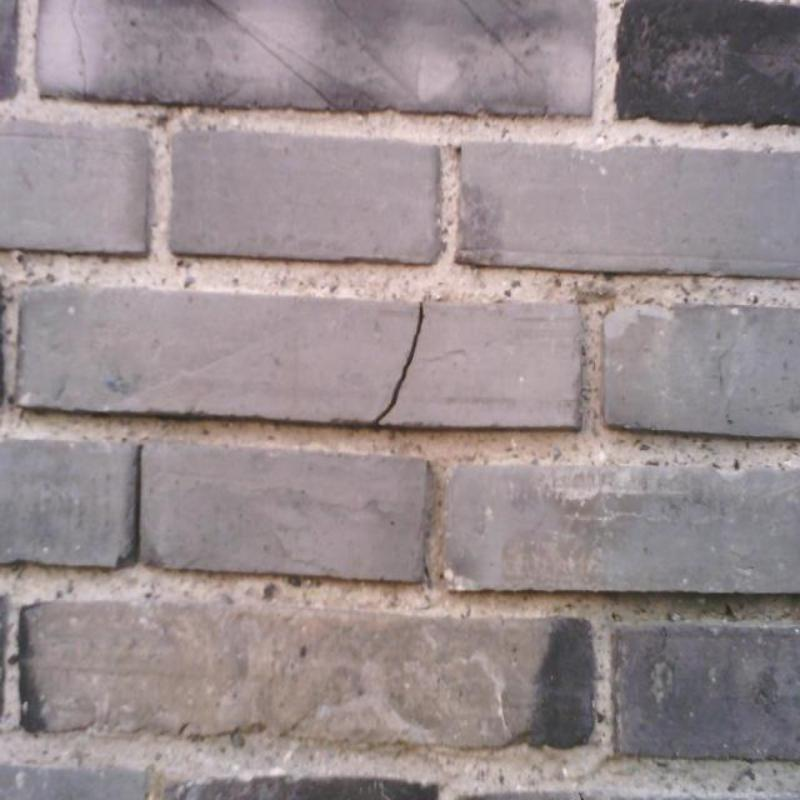pothole: (377, 302, 423, 423), (135, 444, 144, 549)
